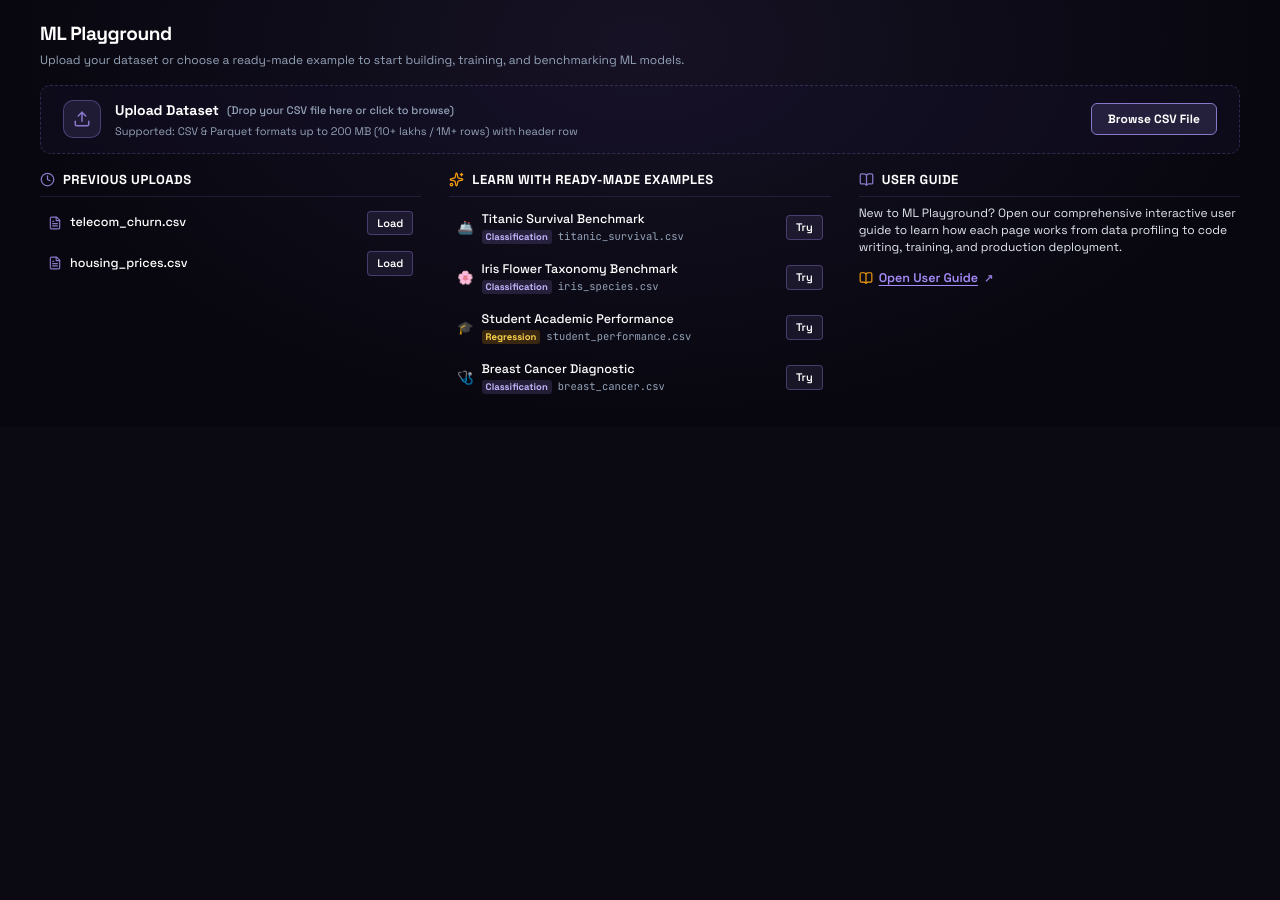
Test: ProjectGatekeeper Component › renders ready-made examples line by line and allows 1-click loading to experiment file prompt
Expected: the text "Iris Flower Taxonomy Benchmark" is shown, [482,260,678,279]
Click the button "Try" next to "titanic_survival.csv" at (804, 228), box [786,215,823,240]
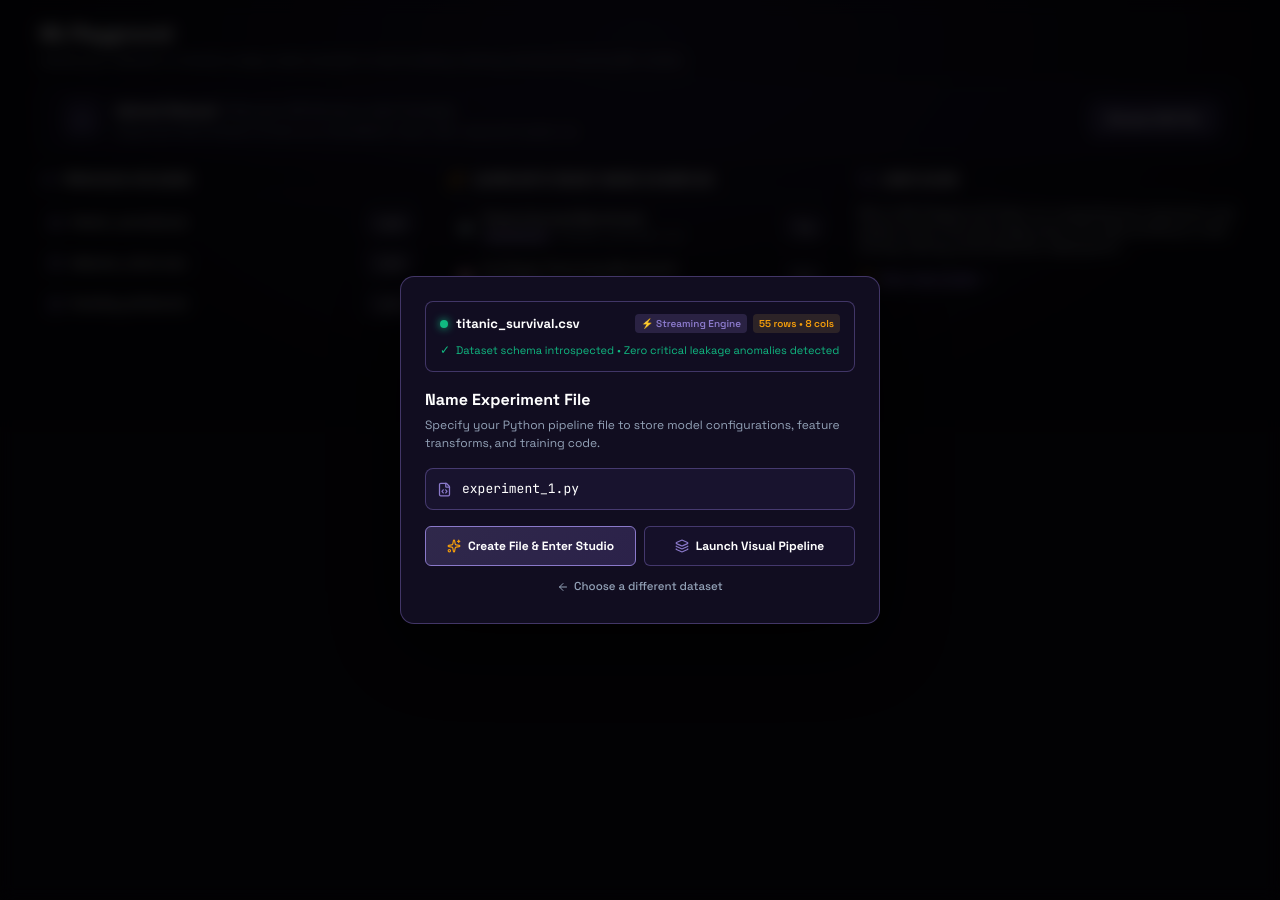
Result: the heading "Name Experiment File" is shown at [425,389,590,410]
Result: the field with placeholder "experiment_1.py" is shown at [425,468,855,510]
Result: the button "Create File & Enter Studio" is shown at [425,526,636,566]
